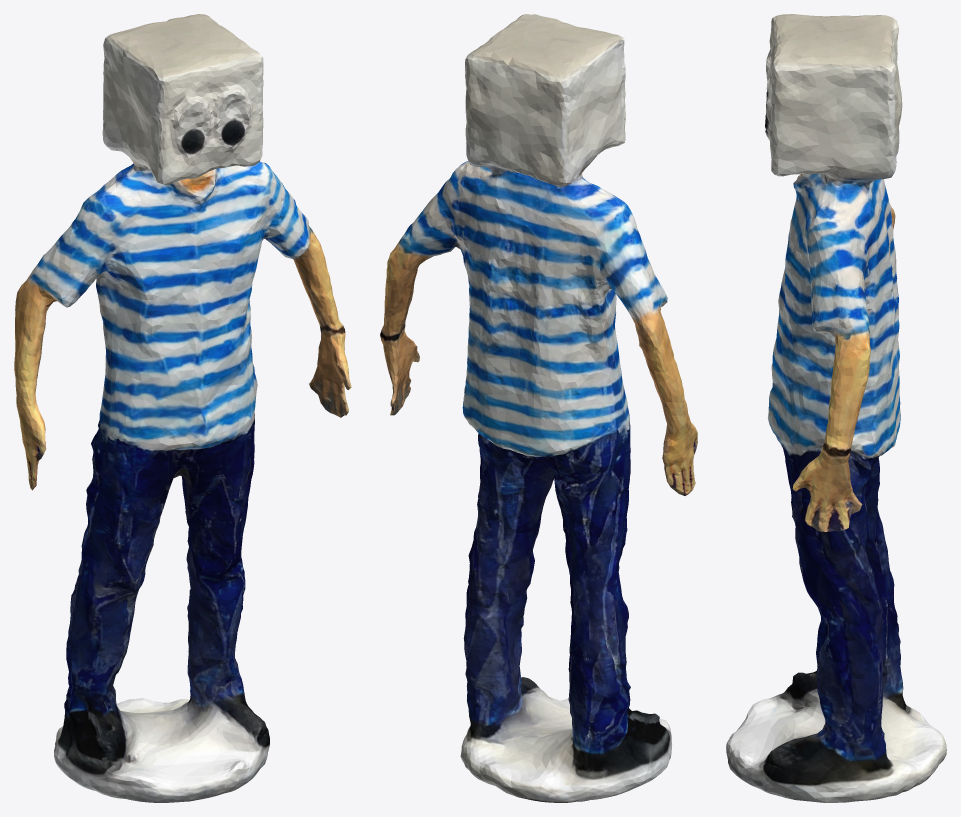
The model's file is ponda.glb.
3 views of the same model, side by side, from view 1: azimuth 30°, elevation 25°; view 2: azimuth 150°, elevation 25°; view 3: azimuth 270°, elevation 25° (orthographic). The views are drawn at different scales.
Bounding box in the file's own units: 0.546 × 1.18 × 0.3218.
1 material, 1 textured.
